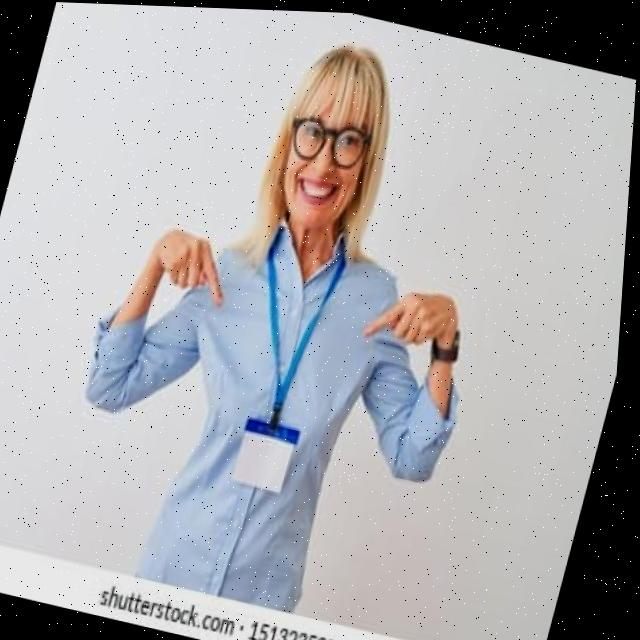id_card: (198, 224, 373, 504)
